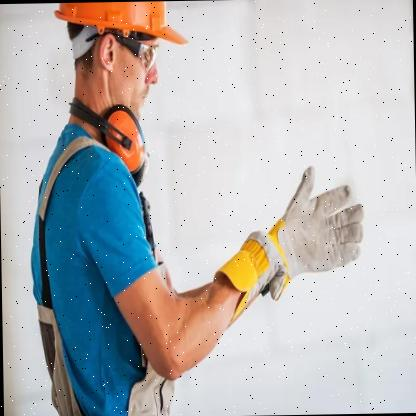capacete: (56, 1, 190, 55)
oculos: (90, 25, 162, 74)
